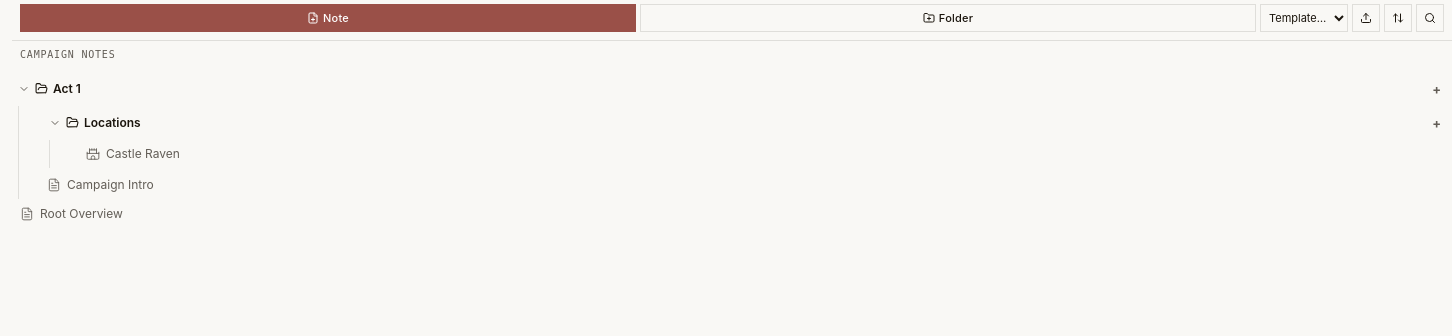
Test: VaultTree Component › bulk selection (F4.2) › adds notes to the selection with ⌘/Ctrl and shows the bar
The image size is (1452, 336).
Click the button with test id "tree-note-note-1": (100, 184) [47,177,154,192]
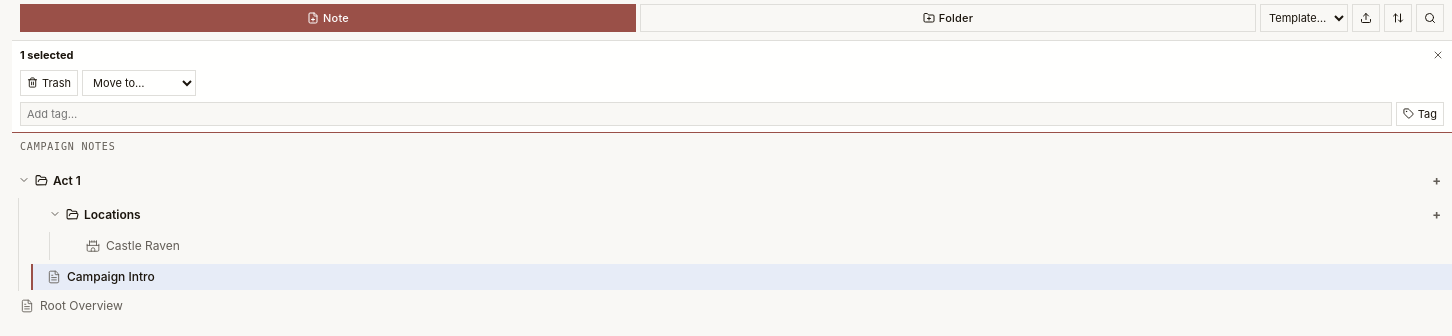
Result: the text "1 selected" is shown at [20,47,74,64]
Click the button with test id "tree-note-note-3": (71, 305) [20,298,123,312]
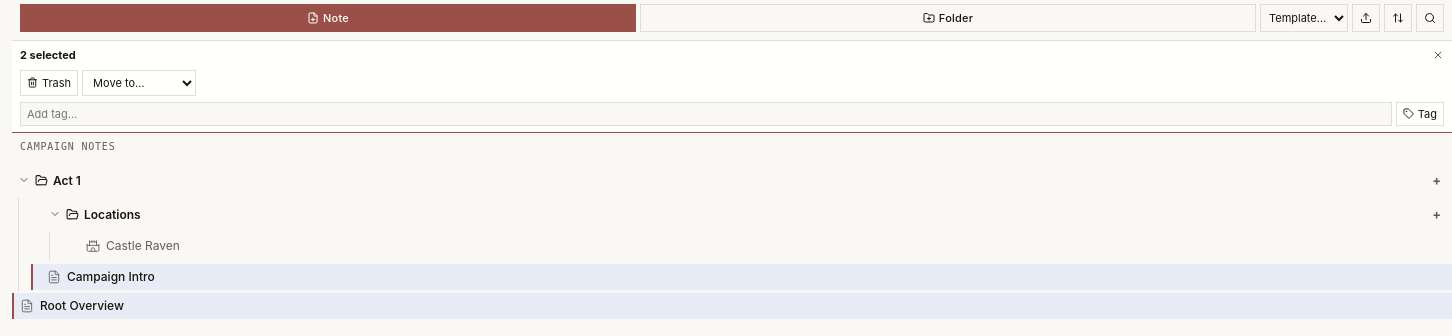
Result: the text "2 selected" is shown at [20,47,76,64]
